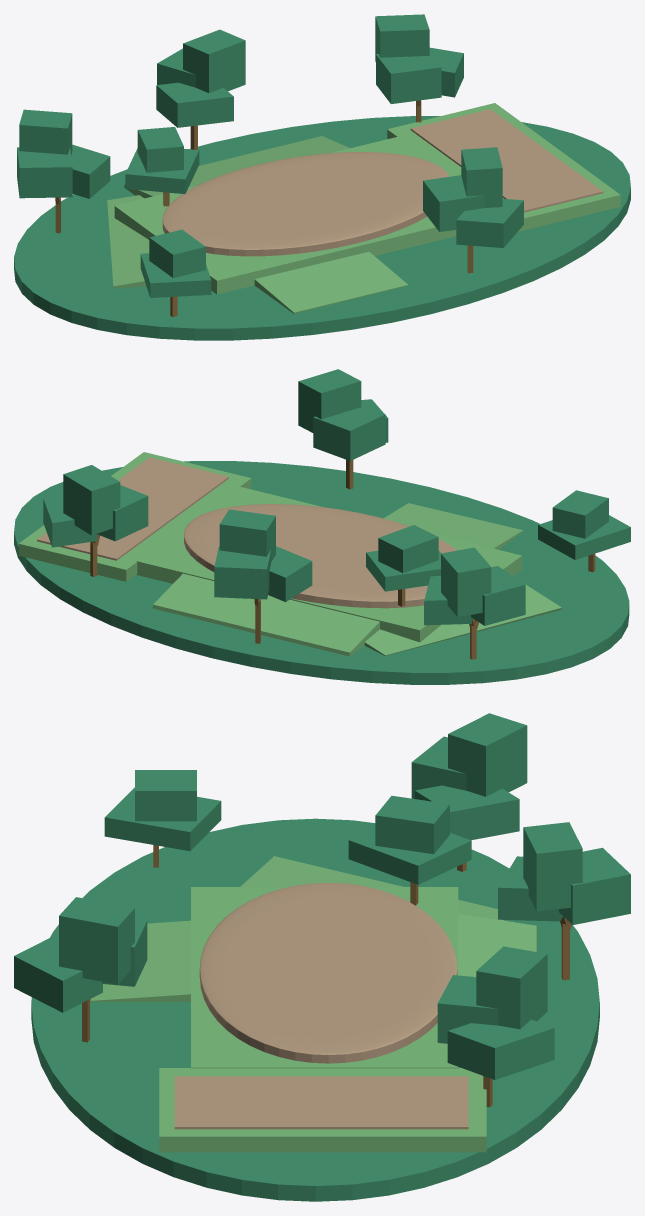
The model's file is asland.glb.
3 views of the same model, one above another, from view 1: azimuth 30°, elevation 25°; view 2: azimuth 150°, elevation 25°; view 3: azimuth 270°, elevation 25° (orthographic). The views are drawn at different scales.
Parts seen in each view (by area): view 1: Mesh_Mesh_head_geo.001_lambert2SG.001; view 2: Mesh_Mesh_head_geo.001_lambert2SG.001; view 3: Mesh_Mesh_head_geo.001_lambert2SG.001.
Part boxes in pixels (left/top/right/bottom): Mesh_Mesh_head_geo.001_lambert2SG.001: left=14, top=14, right=630, bottom=340; Mesh_Mesh_head_geo.001_lambert2SG.001: left=14, top=369, right=630, bottom=684; Mesh_Mesh_head_geo.001_lambert2SG.001: left=14, top=713, right=630, bottom=1201.
Bounding box in the file's own units: 1006 × 216 × 714.
